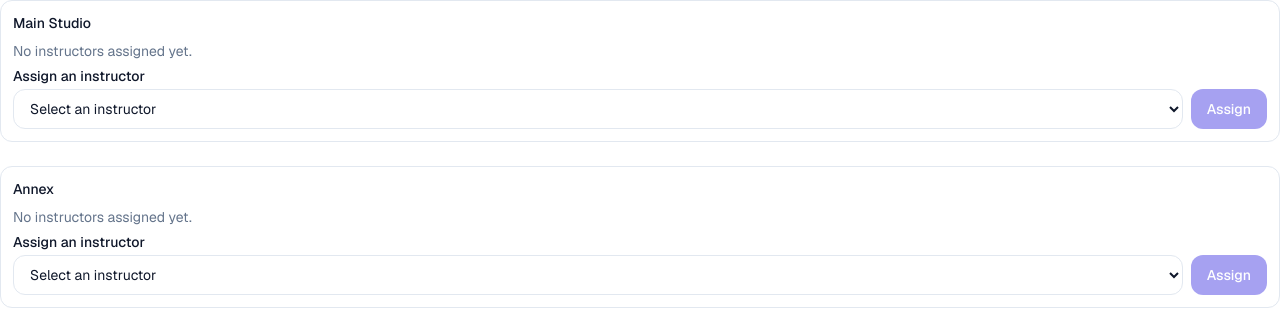
Test: InstructorLocationSettings › an Owner/Admin can assign an instructor to a location and sees it reflected immediately
Expected: the number of list items "No instructors assigned yet." is 2, top-left (13, 42), bottom-right (192, 60); top-left (13, 208), bottom-right (192, 226)
Select "Instructor A" in the dropdown labelled "Assign an instructor" below "Main Studio" at (598, 109), box top-left (13, 89), bottom-right (1183, 129)
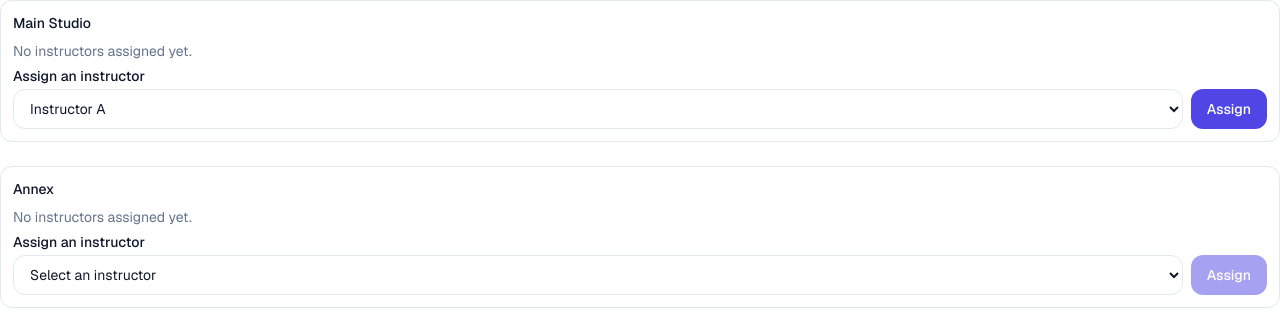
Click the 1st button "Assign".
click(1229, 109)  # box top-left (1191, 89), bottom-right (1267, 129)
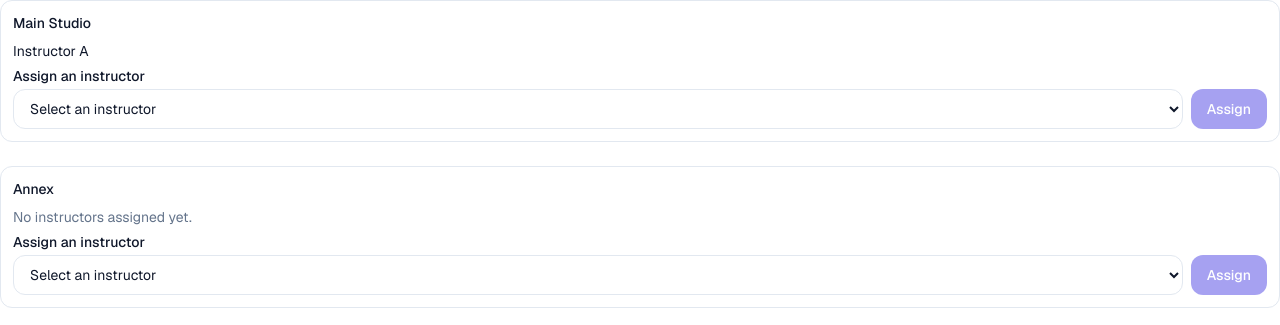
Result: the list item "Instructor A" is shown at top-left (13, 42), bottom-right (89, 60)
